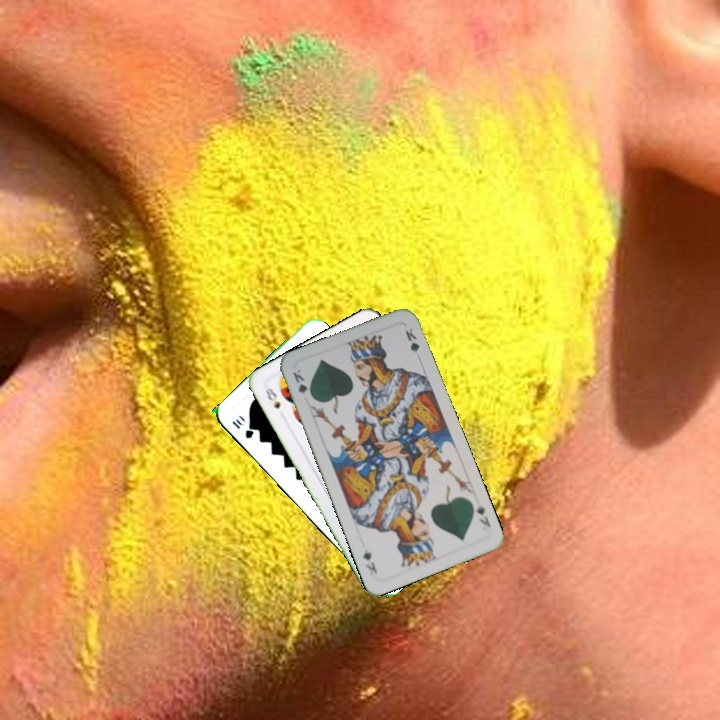G10: (228, 411, 257, 441)
GK: (288, 365, 315, 402), (472, 499, 493, 530)
S8: (261, 383, 283, 412)
